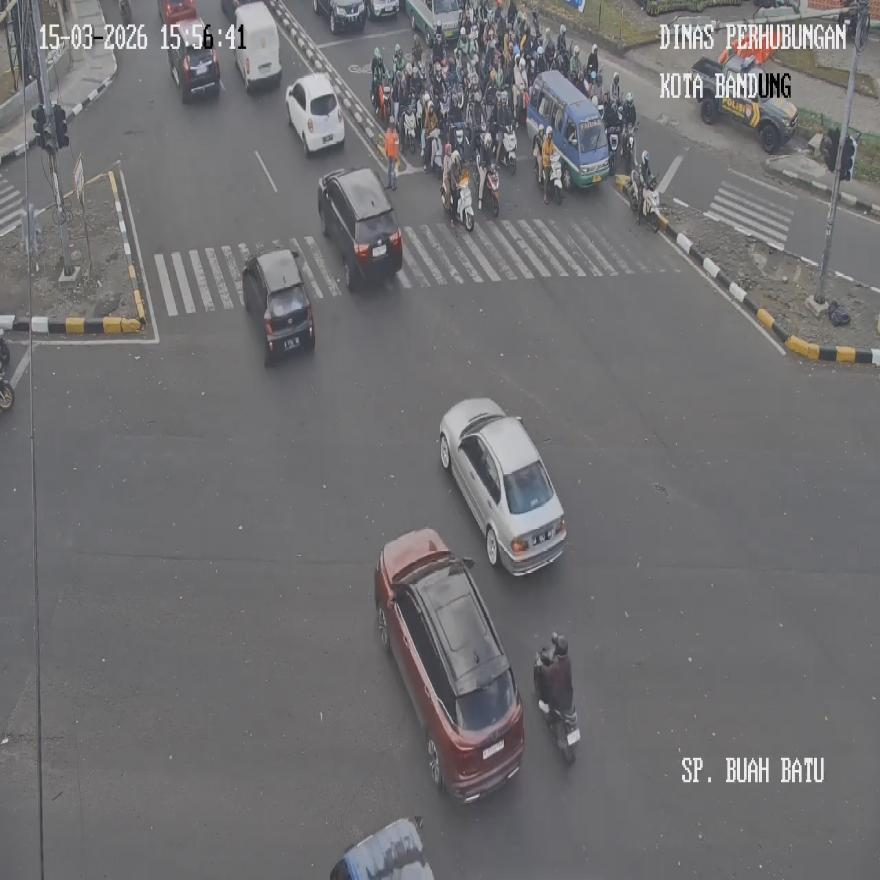Motor: (375, 528, 525, 802), (438, 396, 565, 573), (690, 45, 798, 152), (317, 167, 401, 291), (526, 69, 611, 188), (242, 247, 316, 365), (286, 72, 344, 155), (233, 1, 282, 90), (168, 18, 219, 101)
Truk: (533, 649, 580, 764), (627, 174, 659, 232), (535, 147, 562, 204), (453, 178, 474, 230), (0, 332, 13, 410), (481, 160, 499, 216), (425, 126, 443, 176), (498, 124, 516, 172), (401, 104, 417, 154), (606, 122, 620, 174), (620, 124, 635, 172), (372, 80, 388, 124)
